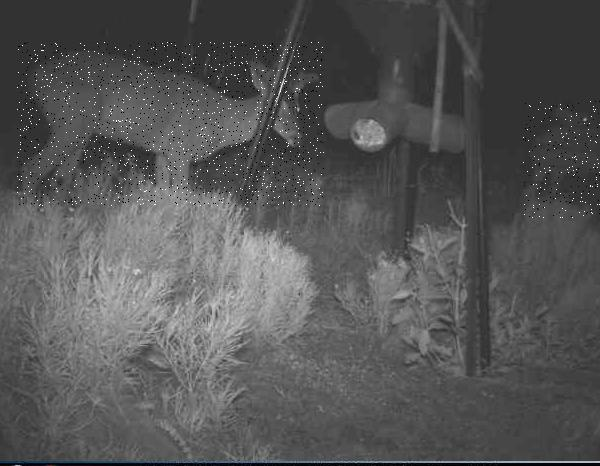Deer: (17, 42, 324, 206), (523, 101, 600, 218)
